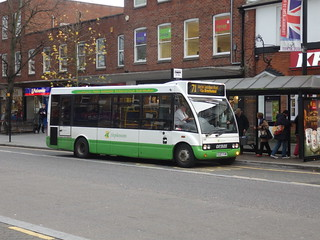bus: (46, 79, 240, 168)
